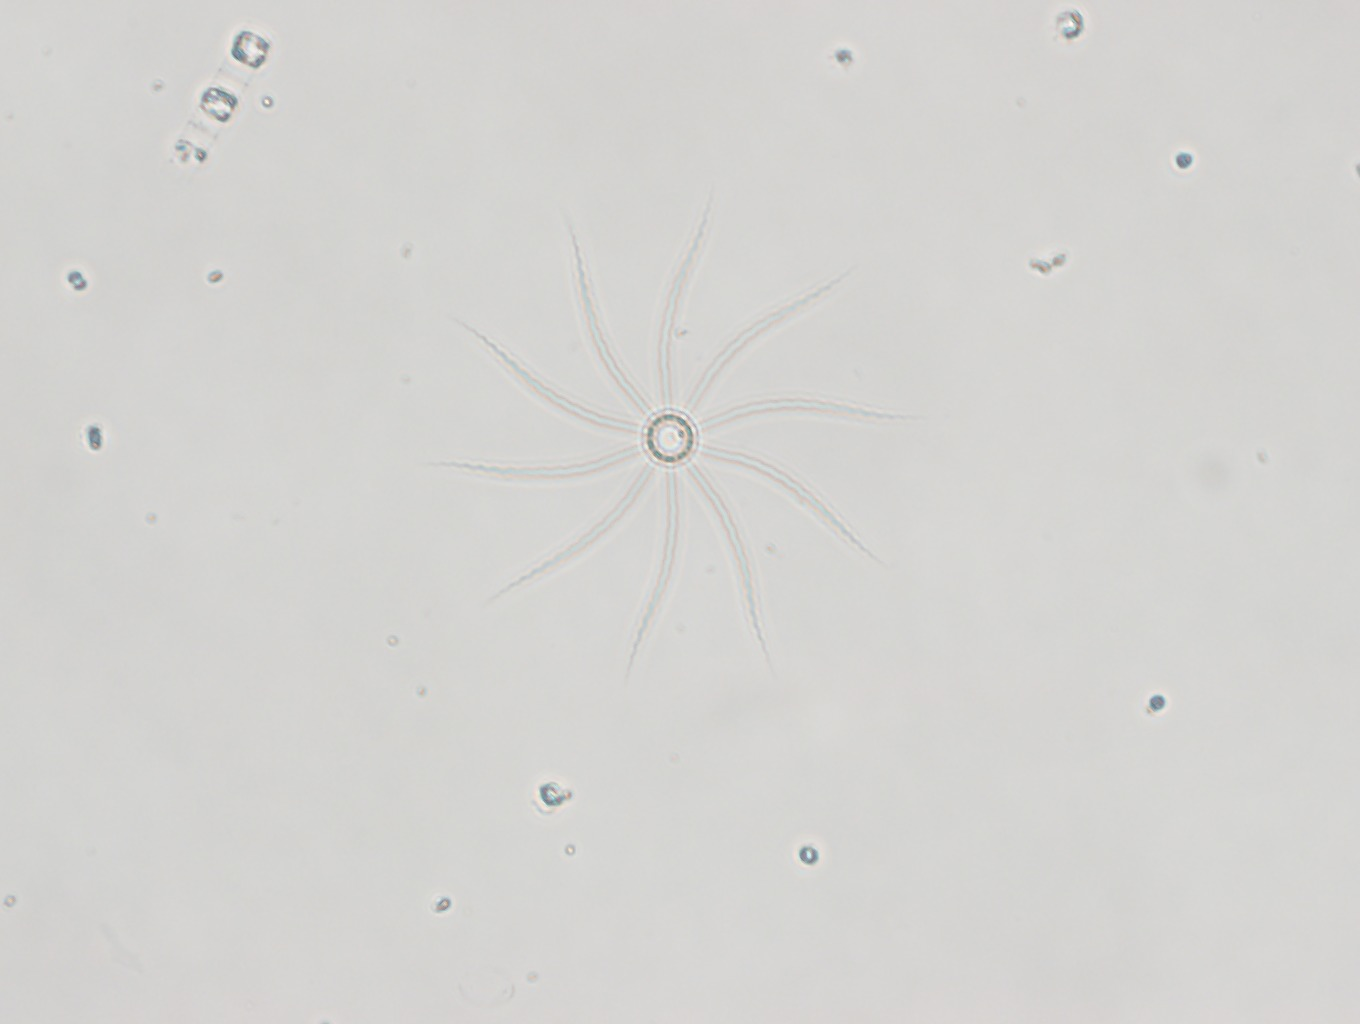bacteriastrum: (423, 188, 919, 693)
skeletonema: (167, 22, 275, 177)
